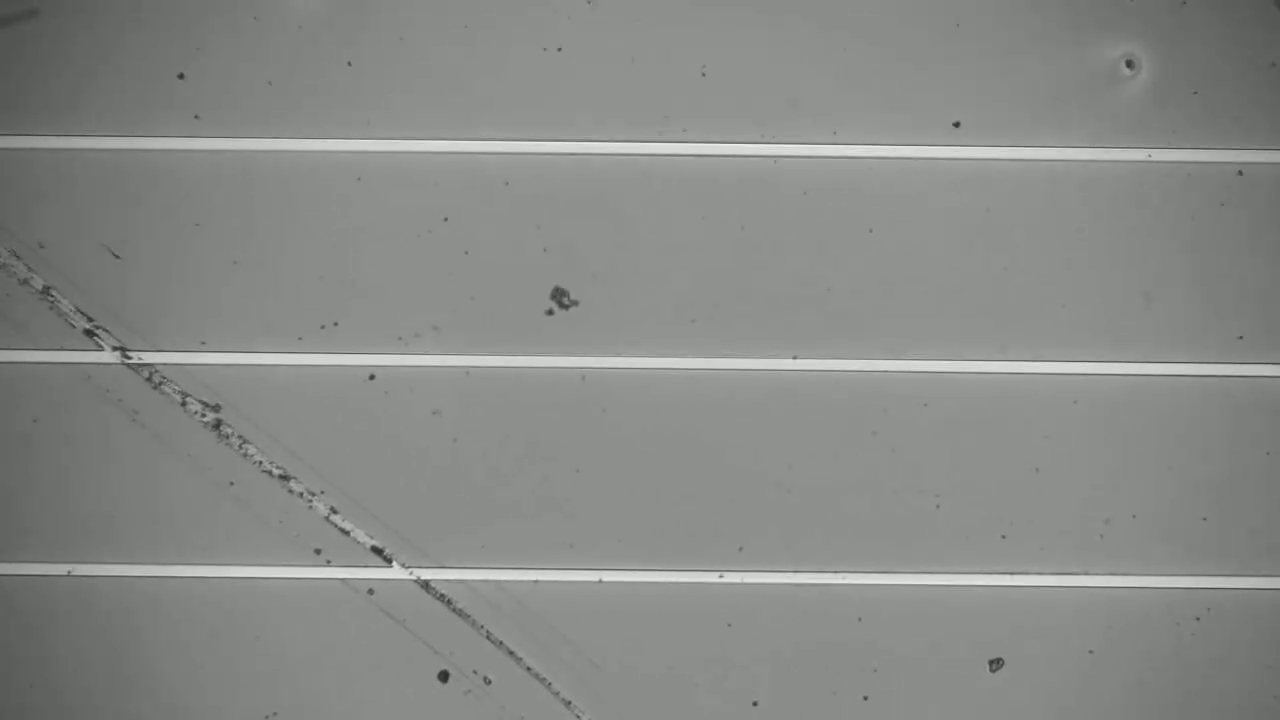scratch: (32, 276, 599, 720)
